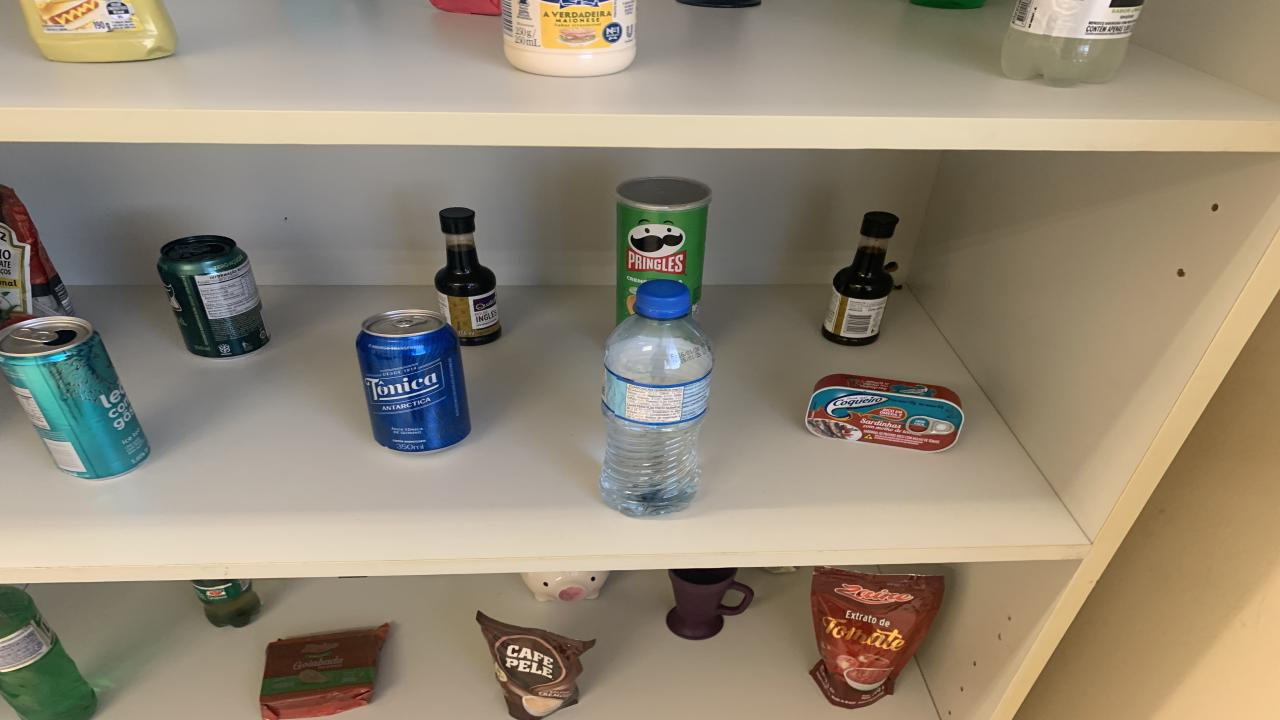Coffee-Pantry_Items: (475, 611, 595, 718)
Detergent-Cleanup_Items: (0, 585, 98, 720), (910, 0, 988, 9)
English_Sauce-Pantry_Items: (822, 212, 898, 345), (435, 206, 500, 345)
Guarana-Drinks: (192, 579, 262, 628)
Guarana_Can-Drinks: (158, 234, 270, 358)
Guava-Snacks: (260, 624, 390, 718)
Mayonnaise-Pantry_Items: (502, 0, 635, 77)
Mustard-Pantry_Items: (20, 0, 178, 62)
Pig_Safe-Miscellaneous: (522, 570, 610, 602)
Pringles-Snacks: (615, 176, 712, 322)
Soap-Cleanup_Items: (430, 0, 500, 15)
Soda-Drinks: (1002, 0, 1142, 86)
Tea-Drinks: (0, 317, 150, 480)
Tomato_Sauce-Pantry_Items: (810, 566, 945, 709), (0, 184, 72, 328)
Tonic-Drinks: (355, 309, 470, 452)
Tuna_Can-Pantry_Items: (805, 373, 965, 452)
Water_Bottle-Drinks: (600, 279, 712, 516)
